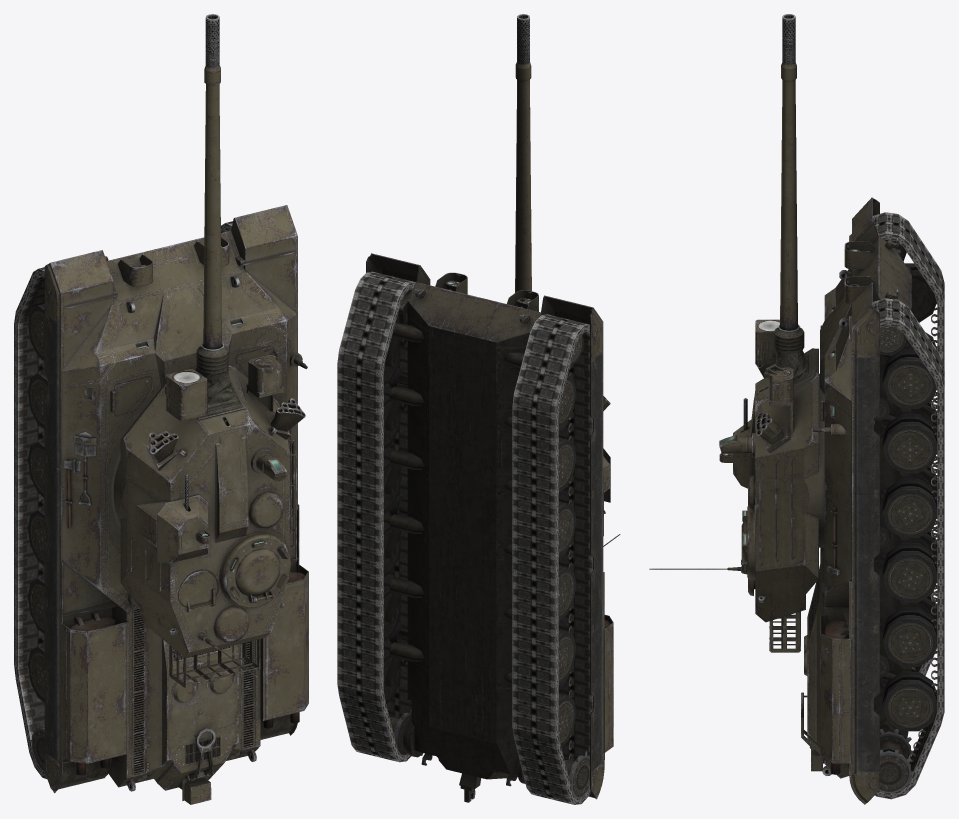
The picture shows the model from 3 angles, left to right: view 1: azimuth 30°, elevation 25°; view 2: azimuth 150°, elevation 25°; view 3: azimuth 270°, elevation 25°; orthographic projection. The views are drawn at different scales.
Parts seen in each view (by area): view 1: hull, hull_nc, turret_01, turret_01_nc, chassis_track_L, gun_01, gun_01_mask_nc, gun_01_mask, chassis_wheel_L_07, chassis_wheel_L_10, chassis_wheel_L_04, chassis_wheel_L_05 (+2 smaller); view 2: hull, chassis_track_L, chassis_track_R, hull_nc, gun_01, chassis_wheel_L_11, chassis_wheel_L_04, chassis_wheel_L_08, chassis_wheel_L_07, chassis_wheel_L_05, chassis_wheel_L_10, chassis_wheel_L_02; view 3: hull_nc, turret_01, hull, chassis_track_R, gun_01, turret_01_nc, chassis_track_L, chassis_wheel_R_04, chassis_wheel_R_05, chassis_wheel_R_08, chassis_wheel_R_07, chassis_wheel_R_10 (+6 smaller).
Boxes of the visible parts, bbox=[...] form: hull: bbox=[61, 231, 297, 790]; hull_nc: bbox=[44, 205, 308, 804]; turret_01: bbox=[114, 365, 291, 657]; turret_01_nc: bbox=[130, 355, 305, 687]; chassis_track_L: bbox=[14, 267, 47, 779]; gun_01: bbox=[203, 14, 221, 349]; gun_01_mask_nc: bbox=[165, 368, 207, 420]; gun_01_mask: bbox=[195, 343, 234, 404]; chassis_wheel_L_07: bbox=[28, 509, 47, 565]; chassis_wheel_L_10: bbox=[28, 645, 47, 701]; chassis_wheel_L_04: bbox=[28, 372, 47, 428]; chassis_wheel_L_05: bbox=[28, 440, 44, 497]; hull: bbox=[407, 282, 543, 779]; chassis_track_L: bbox=[512, 314, 592, 804]; chassis_track_R: bbox=[337, 271, 415, 762]; hull_nc: bbox=[366, 253, 613, 802]; gun_01: bbox=[515, 14, 531, 292]; chassis_wheel_L_11: bbox=[564, 751, 589, 797]; chassis_wheel_L_04: bbox=[559, 437, 576, 492]; chassis_wheel_L_08: bbox=[559, 629, 576, 684]; chassis_wheel_L_07: bbox=[559, 565, 576, 620]; chassis_wheel_L_05: bbox=[559, 501, 576, 556]; chassis_wheel_L_10: bbox=[559, 693, 576, 746]; chassis_wheel_L_02: bbox=[559, 376, 576, 428]; hull_nc: bbox=[801, 197, 915, 804]; turret_01: bbox=[719, 348, 824, 622]; hull: bbox=[807, 236, 911, 778]; chassis_track_R: bbox=[872, 298, 944, 799]; gun_01: bbox=[780, 14, 797, 330]; turret_01_nc: bbox=[649, 364, 800, 652]; chassis_track_L: bbox=[872, 212, 944, 675]; chassis_wheel_R_04: bbox=[882, 414, 937, 473]; chassis_wheel_R_05: bbox=[882, 478, 937, 537]; chassis_wheel_R_08: bbox=[882, 607, 937, 666]; chassis_wheel_R_07: bbox=[882, 543, 937, 602]; chassis_wheel_R_10: bbox=[882, 672, 937, 731].
Bounding box in the file's own units: 3.31 × 10.48 × 3.73.
Materials: 2 (2 with a texture image).
